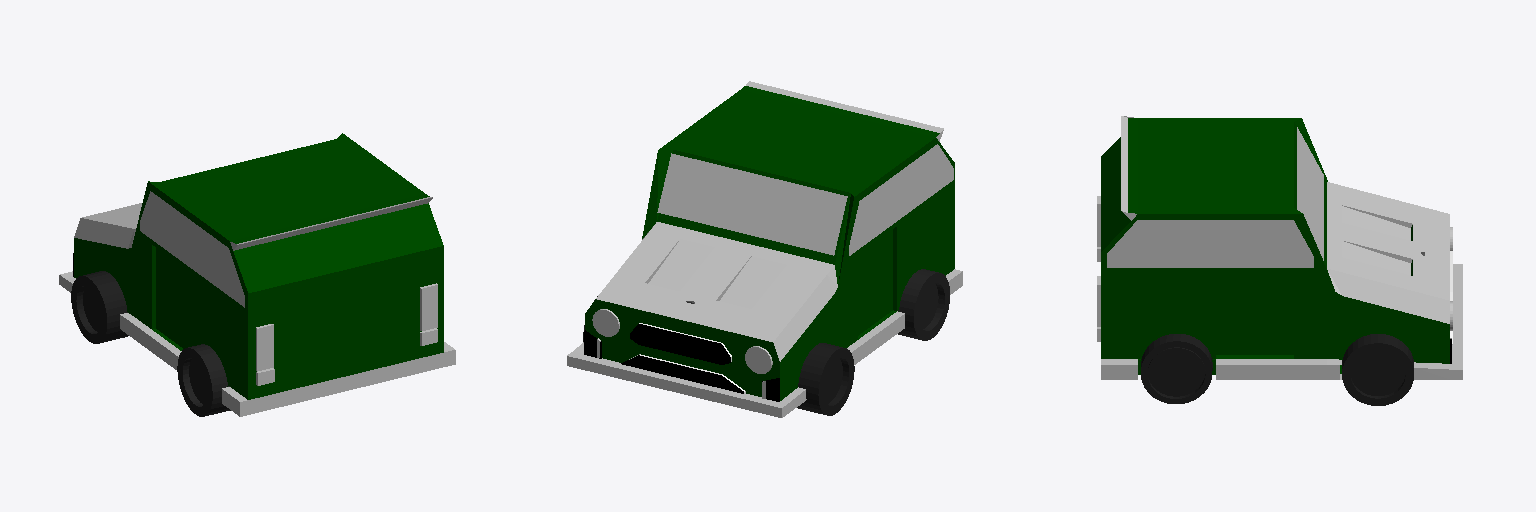
The model's file is jeep.obj.
3 views of the same model, side by side, from view 1: azimuth 30°, elevation 25°; view 2: azimuth 150°, elevation 25°; view 3: azimuth 270°, elevation 25° (orthographic).
Visible parts, largest first — view 1: Cube.010, Cylinder.003, Cylinder.002; view 2: Cube.010, Cylinder.003, Cylinder.002; view 3: Cube.010, Cylinder, Cylinder.001.
Part boxes in pixels (x1,y1,x2,y2): Cube.010: (59, 133, 455, 416); Cylinder.003: (71, 271, 128, 343); Cylinder.002: (177, 344, 230, 416); Cube.010: (567, 81, 962, 417); Cylinder.003: (797, 343, 854, 415); Cylinder.002: (898, 269, 949, 340); Cube.010: (1097, 116, 1462, 379); Cylinder: (1342, 334, 1413, 405); Cylinder.001: (1141, 334, 1212, 403).
Size of the model in its own units: 0.4118 by 0.311 by 0.5539.